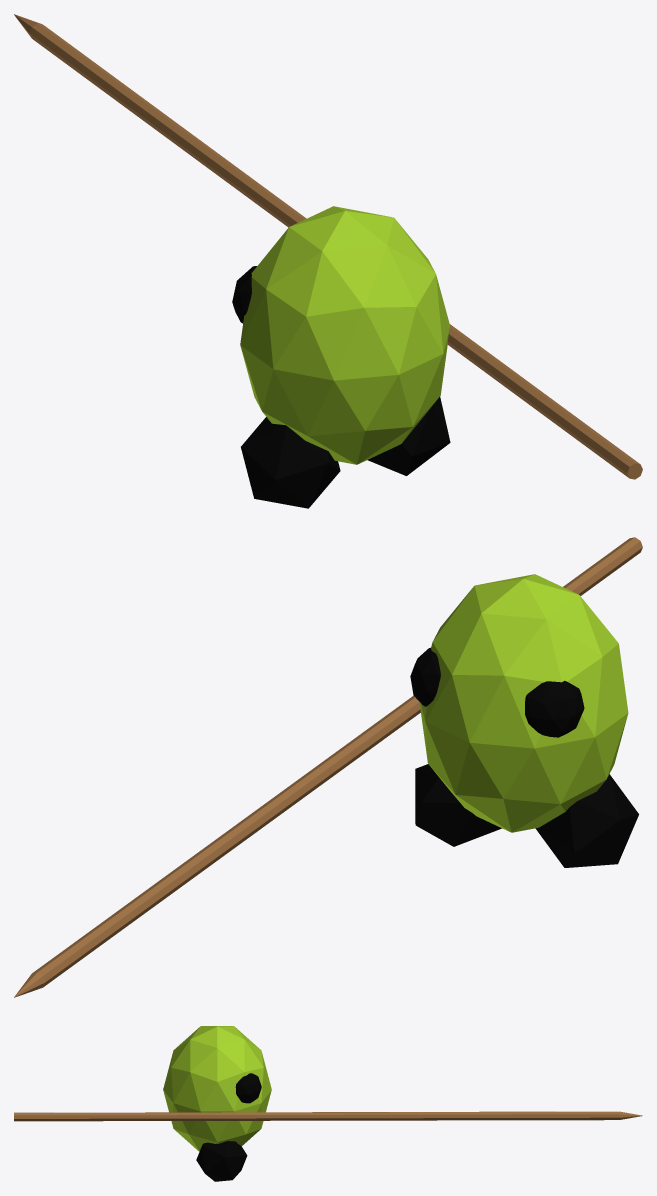
Rendered from walk.f0027.glb.
3 views of the same model, one above another, from view 1: azimuth 30°, elevation 25°; view 2: azimuth 150°, elevation 25°; view 3: azimuth 270°, elevation 25° (orthographic). The views are drawn at different scales.
Visible parts, largest first — view 1: Body.001; view 2: Body.001; view 3: Body.001.
Boxes of the visible parts, x1,y1,x2,y2 form: Body.001: (14, 14, 642, 508); Body.001: (14, 537, 642, 997); Body.001: (14, 1026, 642, 1181).
Bounding box in the file's own units: 2.17 × 2.86 × 11.56.
1 material, 1 textured.
